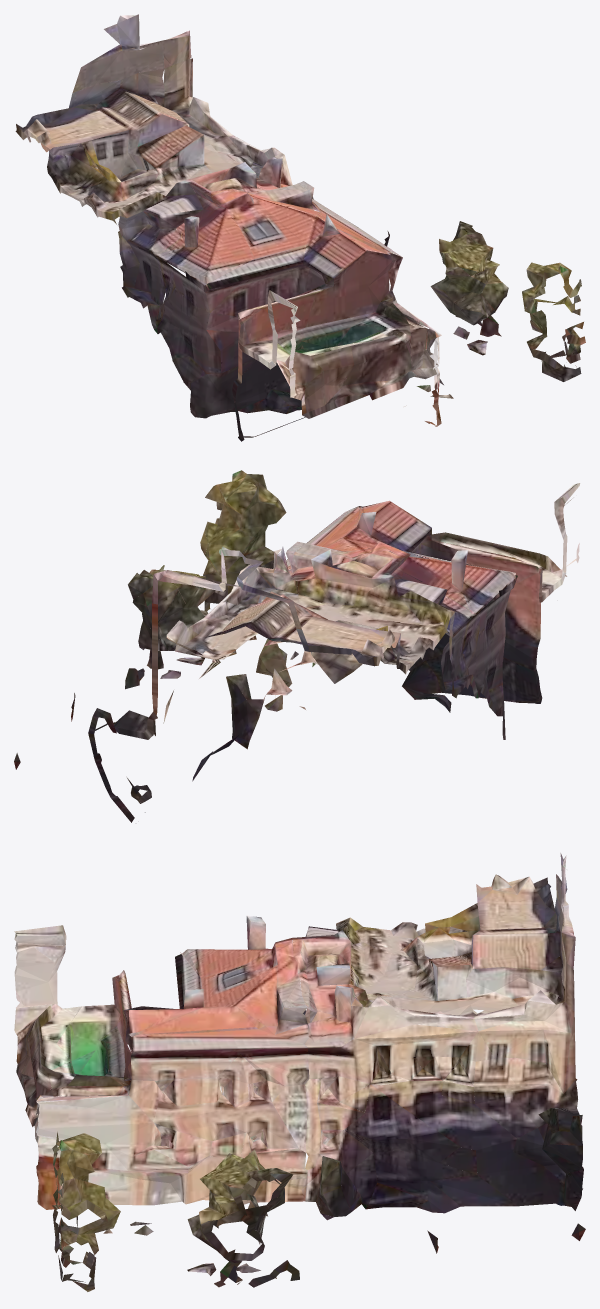
3 renders of one model, top to bottom at view 1: azimuth 30°, elevation 25°; view 2: azimuth 150°, elevation 25°; view 3: azimuth 270°, elevation 25°, orthographic. The views are drawn at different scales.
Parts seen in each view (by area): view 1: Mesh_0; view 2: Mesh_0; view 3: Mesh_0.
Part boxes in pixels (x1=…): Mesh_0: x1=15, y1=14, x2=585, y2=441; Mesh_0: x1=14, y1=470, x2=580, y2=822; Mesh_0: x1=14, y1=853, x2=585, y2=1291.
Size of the model in its own units: 33.92 by 24.23 by 40.81.
Materials: 2 (2 with a texture image).
